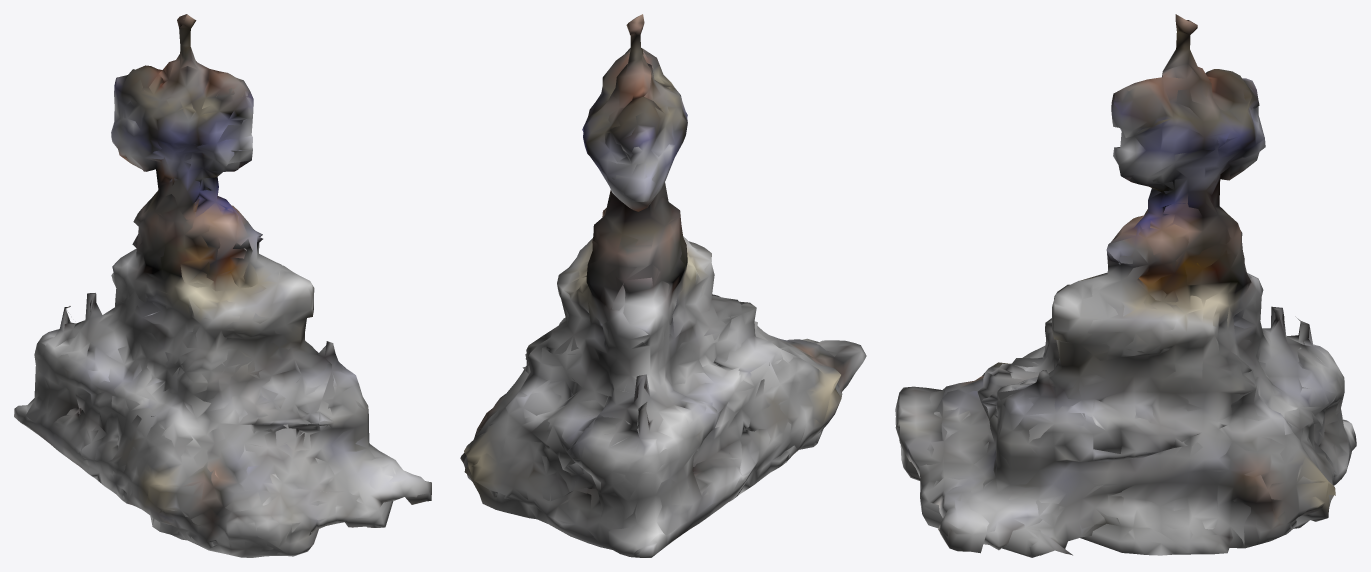
Rendered from maya_prism_pyramid.glb.
3 renders of one model, left to right at view 1: azimuth 30°, elevation 25°; view 2: azimuth 150°, elevation 25°; view 3: azimuth 270°, elevation 25°, orthographic. The views are drawn at different scales.
Parts seen in each view (by area): view 1: maya_prism_pyramid; view 2: maya_prism_pyramid; view 3: maya_prism_pyramid.
Part boxes in pixels (x1=…): maya_prism_pyramid: x1=14, y1=14, x2=431, y2=557; maya_prism_pyramid: x1=460, y1=14, x2=866, y2=557; maya_prism_pyramid: x1=895, y1=14, x2=1356, y2=557.
Size of the model in its own units: 0.9416 by 1.57 by 1.4.
